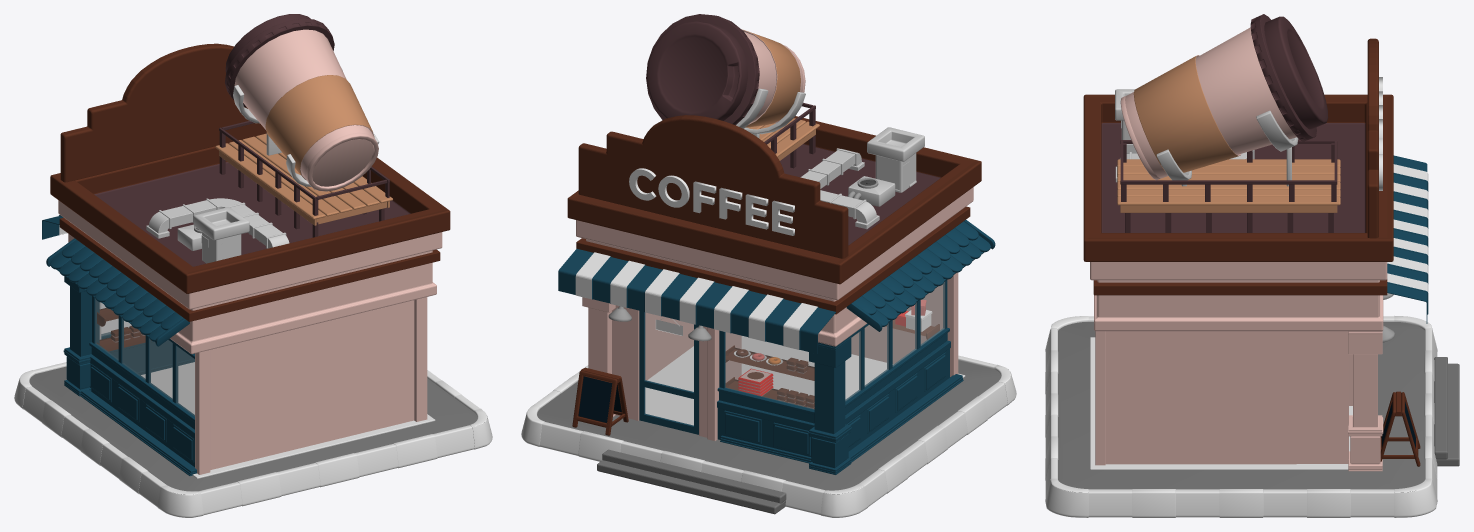
Rendered from coffee_shop.glb.
3 renders of one model, left to right at view 1: azimuth 30°, elevation 25°; view 2: azimuth 150°, elevation 25°; view 3: azimuth 270°, elevation 25°, orthographic. The views are drawn at different scales.
Visible parts, largest first — view 1: Cube.088, Cube.087, Cube.212, Cylinder.007, Cube.003, Cube.001, Cube.141, Cube.017, Cube.096, Cube.089, Cube.139, Cube.063 (+17 smaller); view 2: Cube.088, Cube.212, Cube.001, Plane.002, Cube.003, Cylinder.009, Cube.018, Cube.086, Cube.139, Cube.140, Cube.063, Cube.017 (+28 smaller); view 3: Cube.088, Cube.086, Cube.001, Cube.003, Cylinder.007, Cube.096, Plane.002, Cube.017, Cylinder.009, Cube.212, Cube.139, Cylinder.011 (+9 smaller).
Boxes of the visible parts, box(x1,y1,x2,y2) form: Cube.088: box(50, 136, 450, 354); Cube.087: box(210, 297, 427, 469); Cube.212: box(60, 43, 266, 182); Cylinder.007: box(234, 29, 378, 191); Cube.003: box(14, 362, 492, 517); Cube.001: box(29, 366, 477, 491); Cube.141: box(95, 299, 194, 416); Cube.017: box(59, 217, 440, 321); Cube.096: box(215, 133, 392, 219); Cube.089: box(62, 239, 183, 330); Cube.139: box(141, 362, 435, 478); Cube.063: box(63, 276, 99, 396); Cube.088: box(567, 116, 981, 346); Cube.212: box(578, 115, 848, 258); Cube.001: box(537, 360, 1000, 514); Plane.002: box(558, 249, 835, 353); Cube.003: box(521, 355, 1016, 517); Cylinder.009: box(646, 21, 747, 120); Cube.018: box(639, 310, 698, 434); Cube.086: box(582, 297, 693, 420); Cube.139: box(645, 336, 965, 425); Cube.140: box(725, 332, 814, 409); Cube.063: box(808, 335, 851, 474); Cube.017: box(576, 206, 970, 314); Cube.088: box(1083, 94, 1393, 331); Cube.086: box(1105, 331, 1383, 471); Cube.001: box(1058, 322, 1459, 489); Cube.003: box(1045, 316, 1437, 517); Cylinder.007: box(1120, 27, 1296, 180); Cube.096: box(1117, 159, 1340, 205); Plane.002: box(1387, 155, 1428, 323); Cube.017: box(1093, 279, 1387, 295); Cylinder.009: box(1264, 16, 1328, 129); Cube.212: box(1367, 38, 1378, 238); Cube.139: box(1090, 337, 1352, 469); Cylinder.011: box(1250, 14, 1316, 141).
Size of the model in its own units: 1.89 by 2.11 by 1.83.
